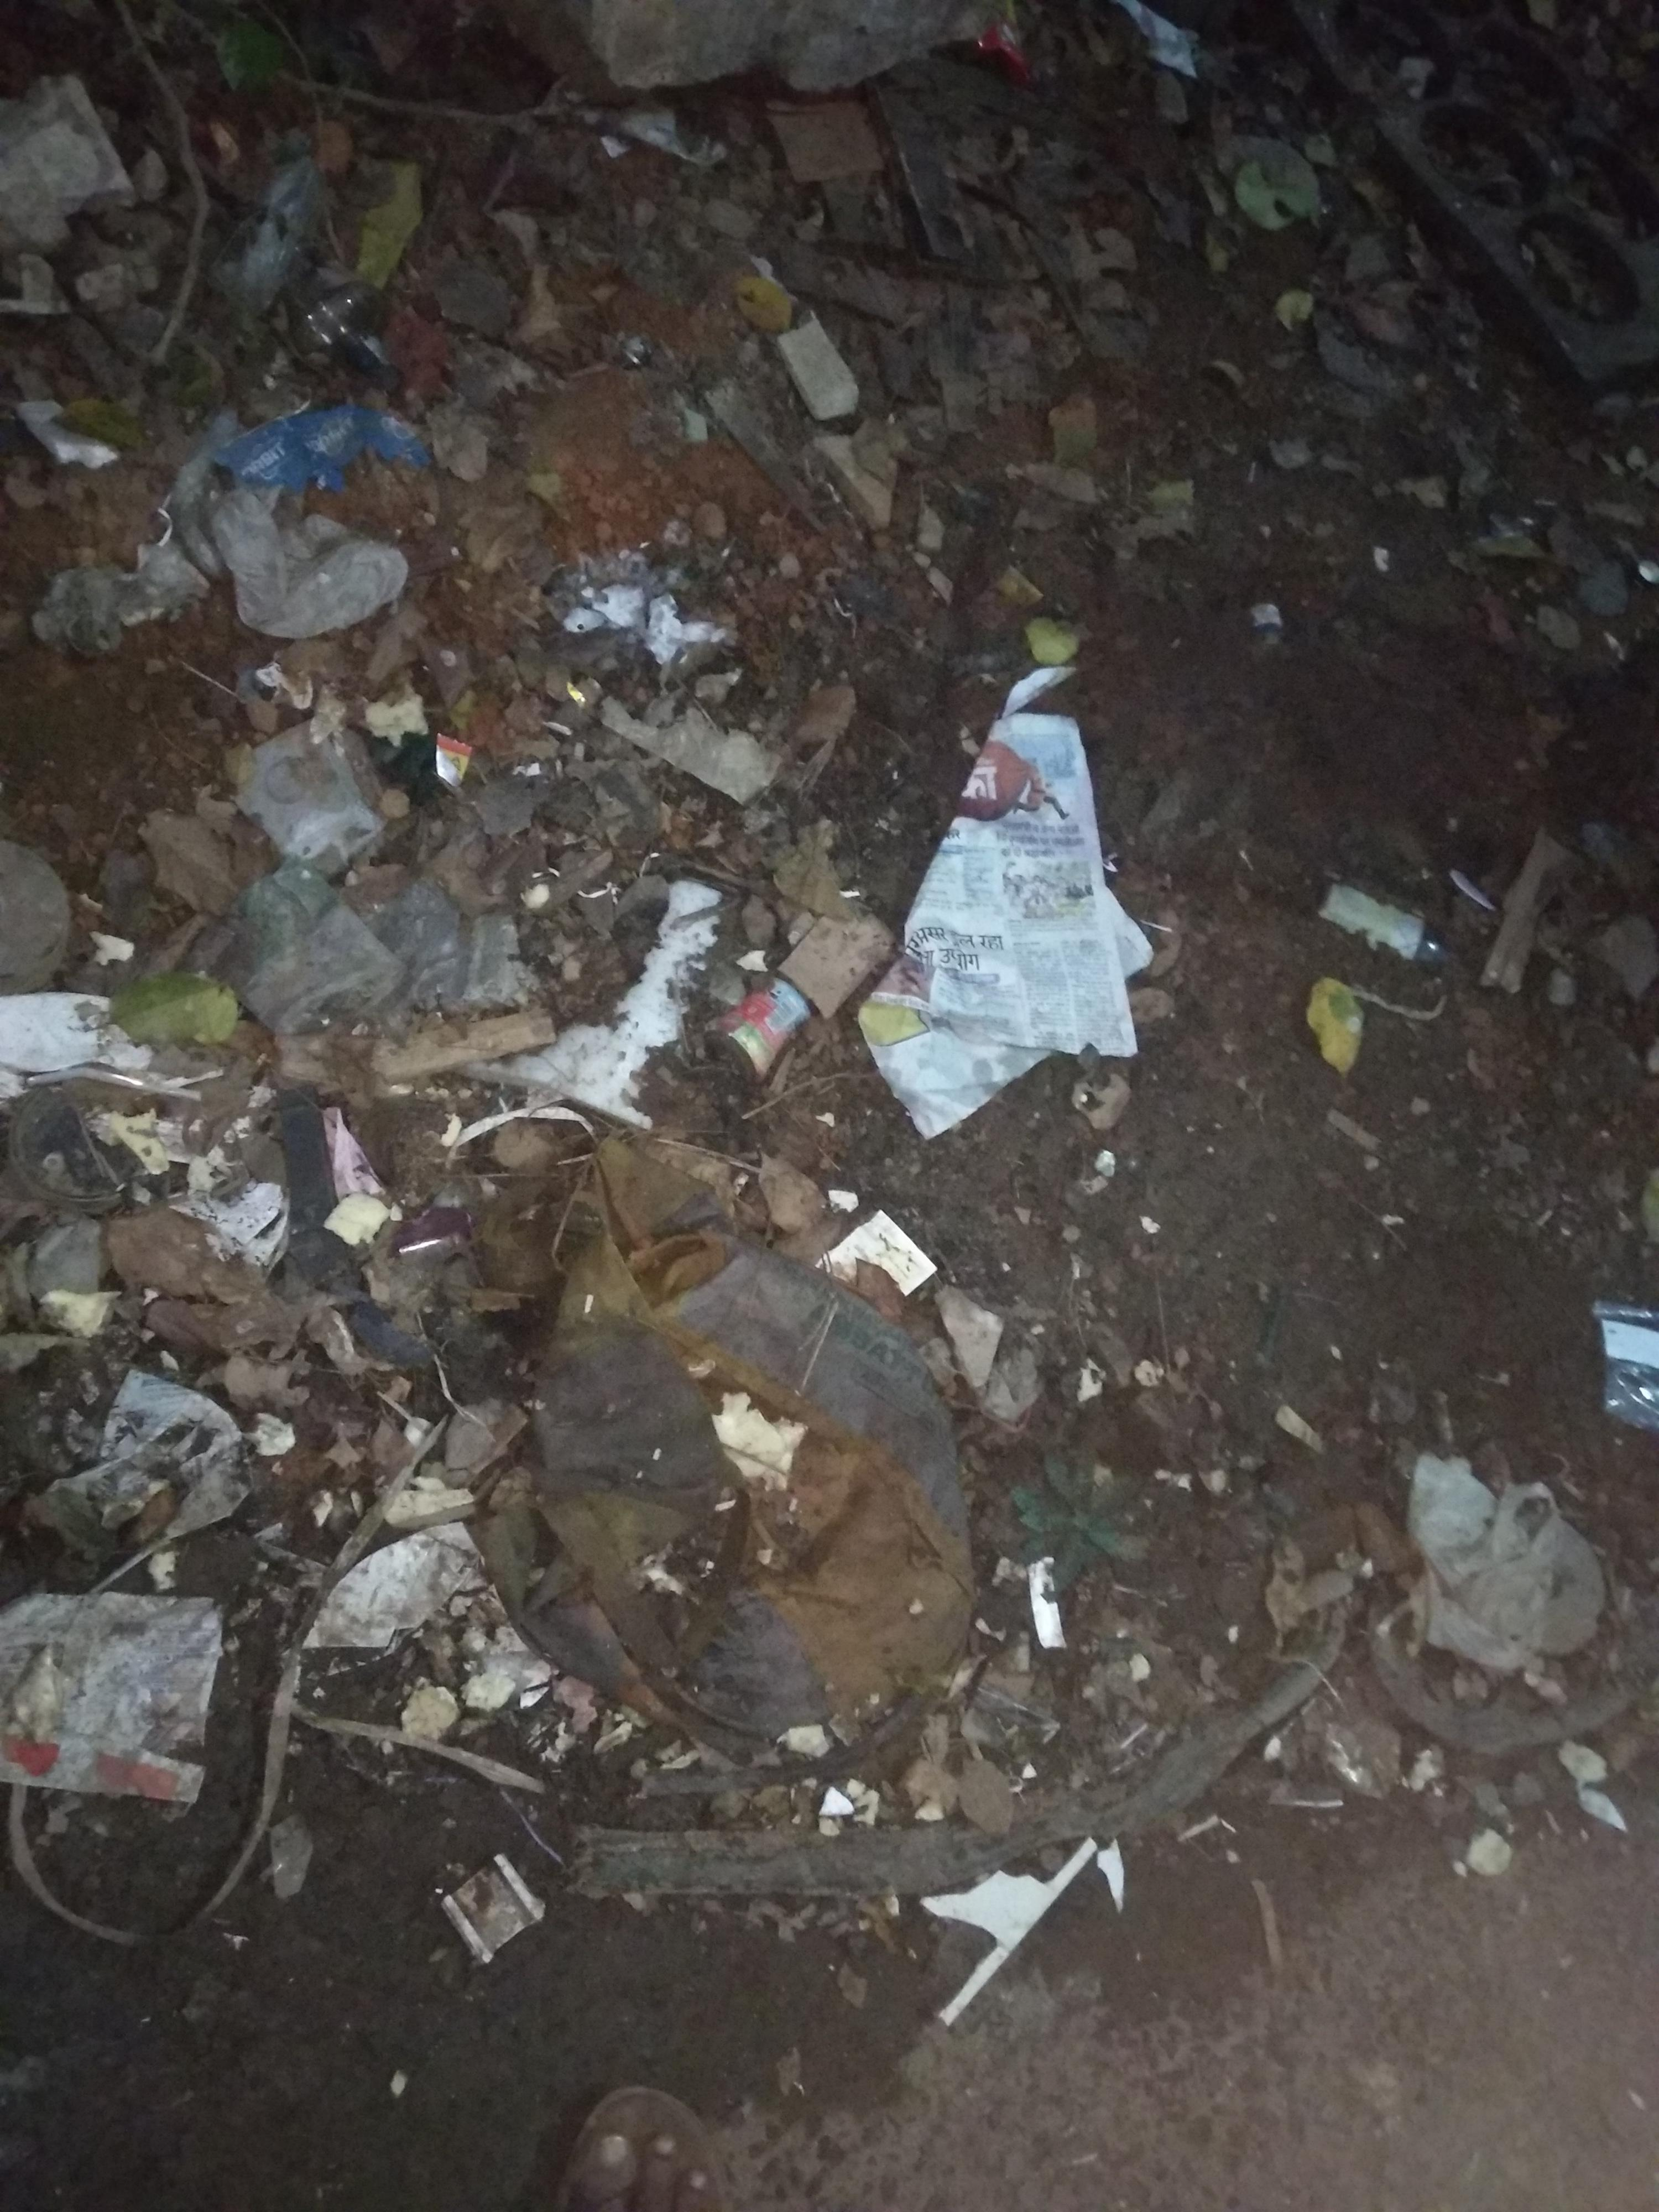trash: (0, 80, 1310, 2078)
